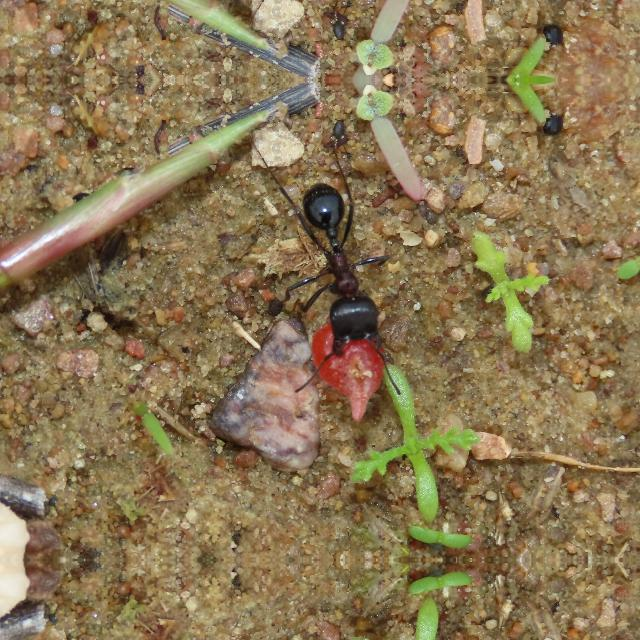Messor: (268, 154, 394, 353)
